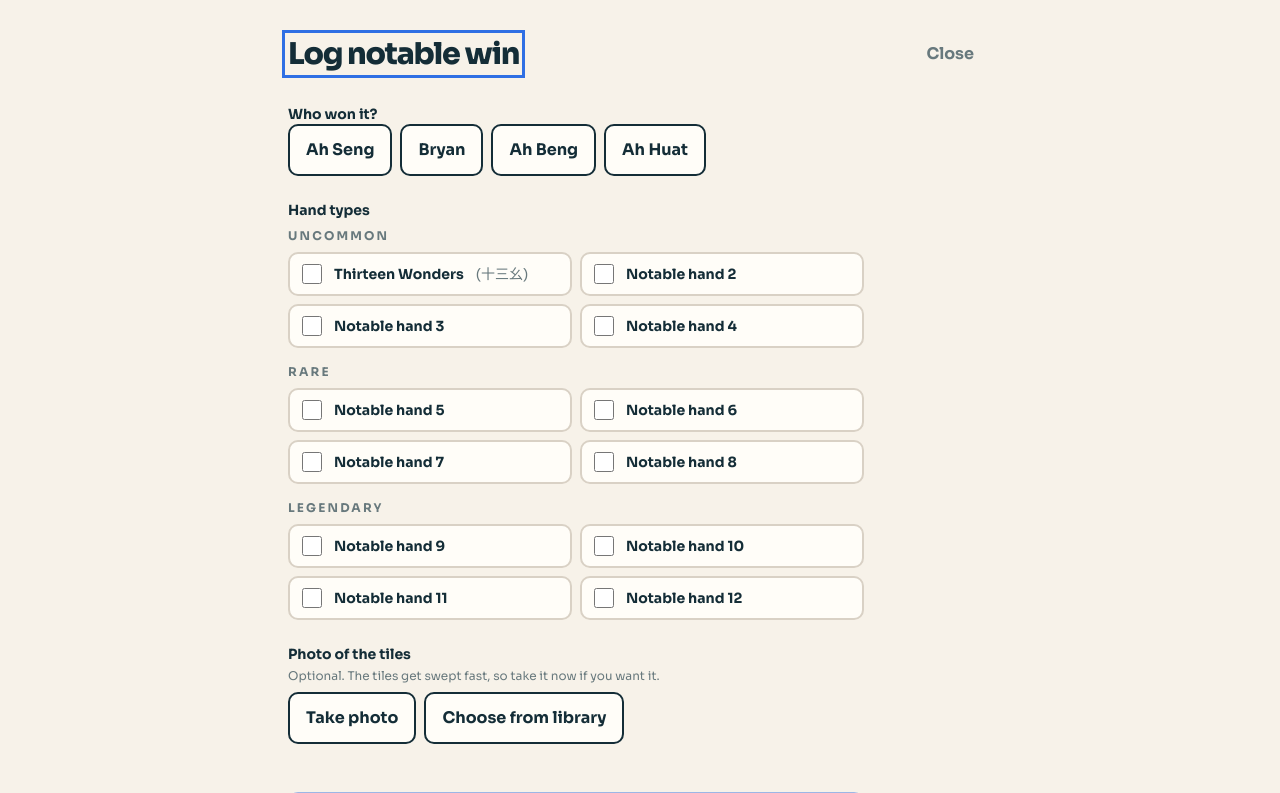
Scenario: NotableLogger › keeps the exact selected hand types and restores the action after an action failure
Click the button "Bryan": (442, 150) x1=400 y1=124 x2=483 y2=176
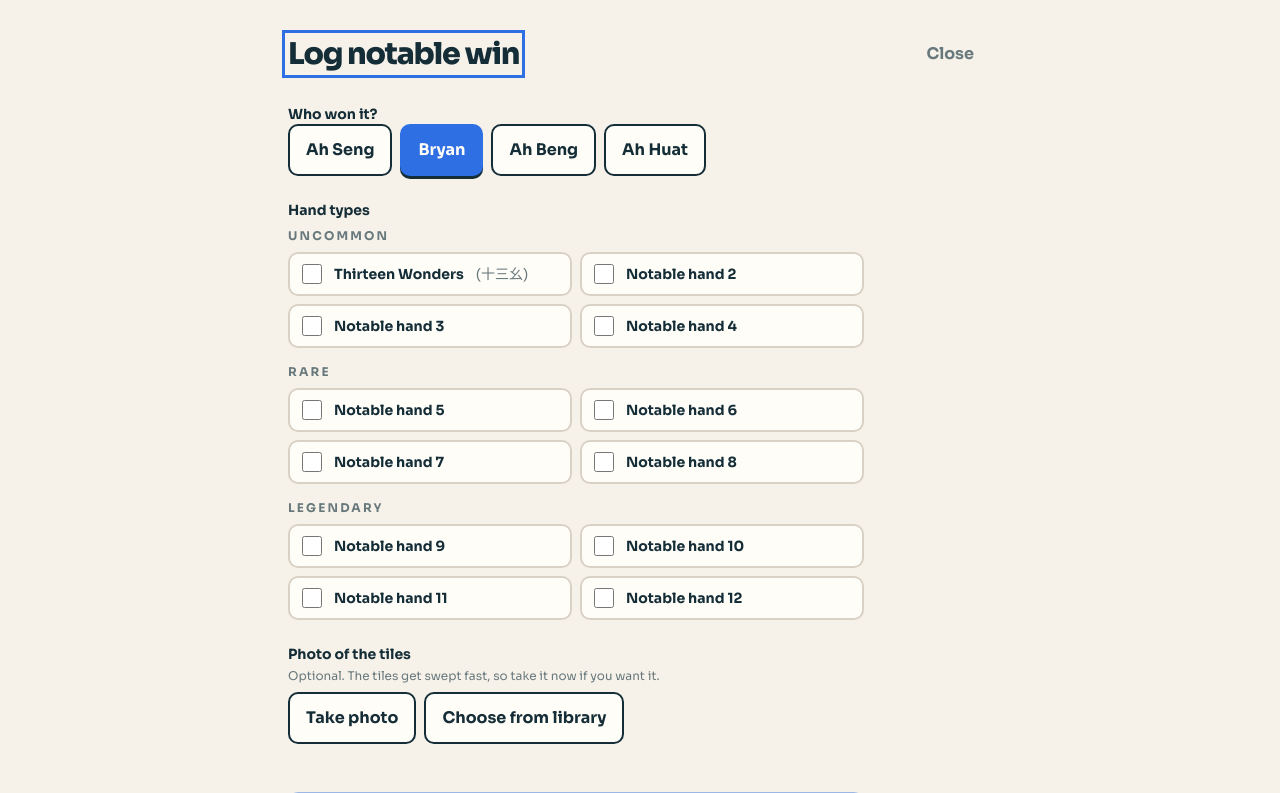
Click the checkbox labelled "Thirteen Wonders": (312, 274) x1=302 y1=264 x2=322 y2=284
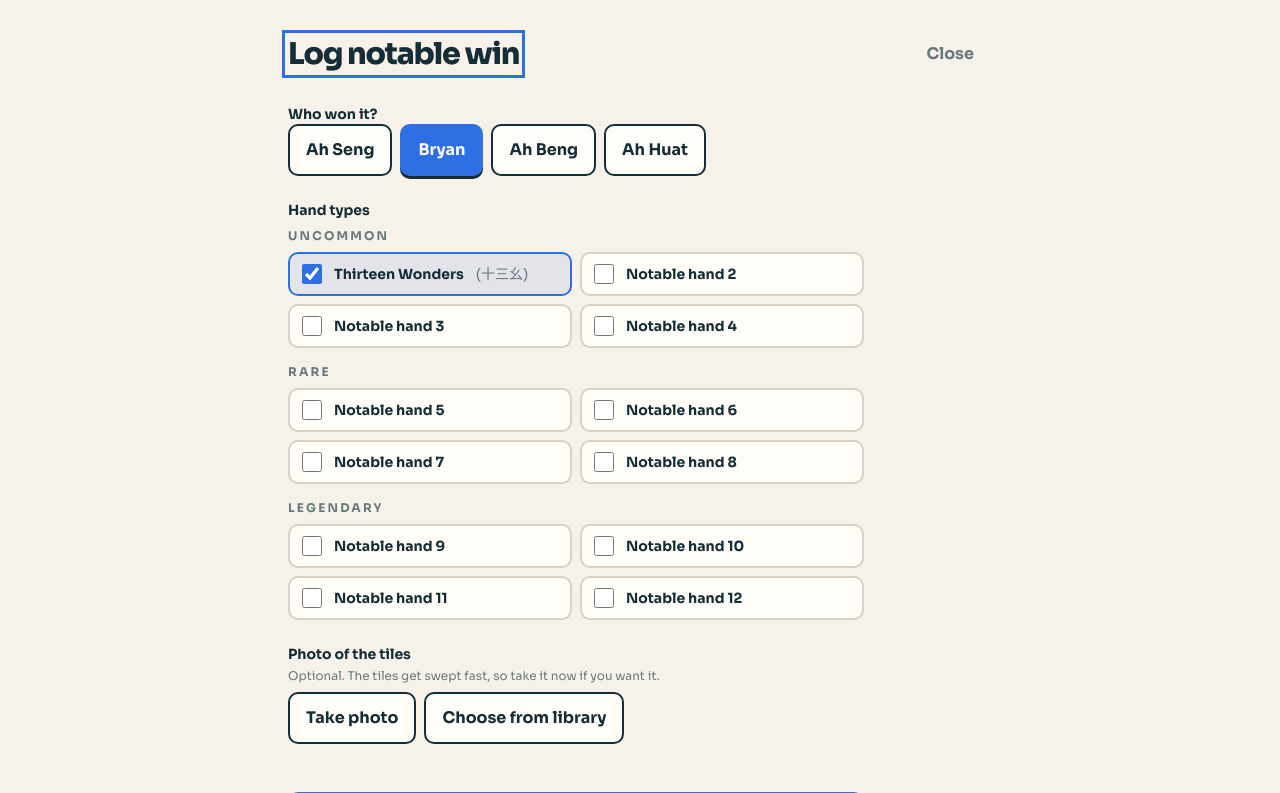
Click the checkbox labelled "Notable hand 8": (604, 462) x1=594 y1=452 x2=614 y2=472
(page scrolled)
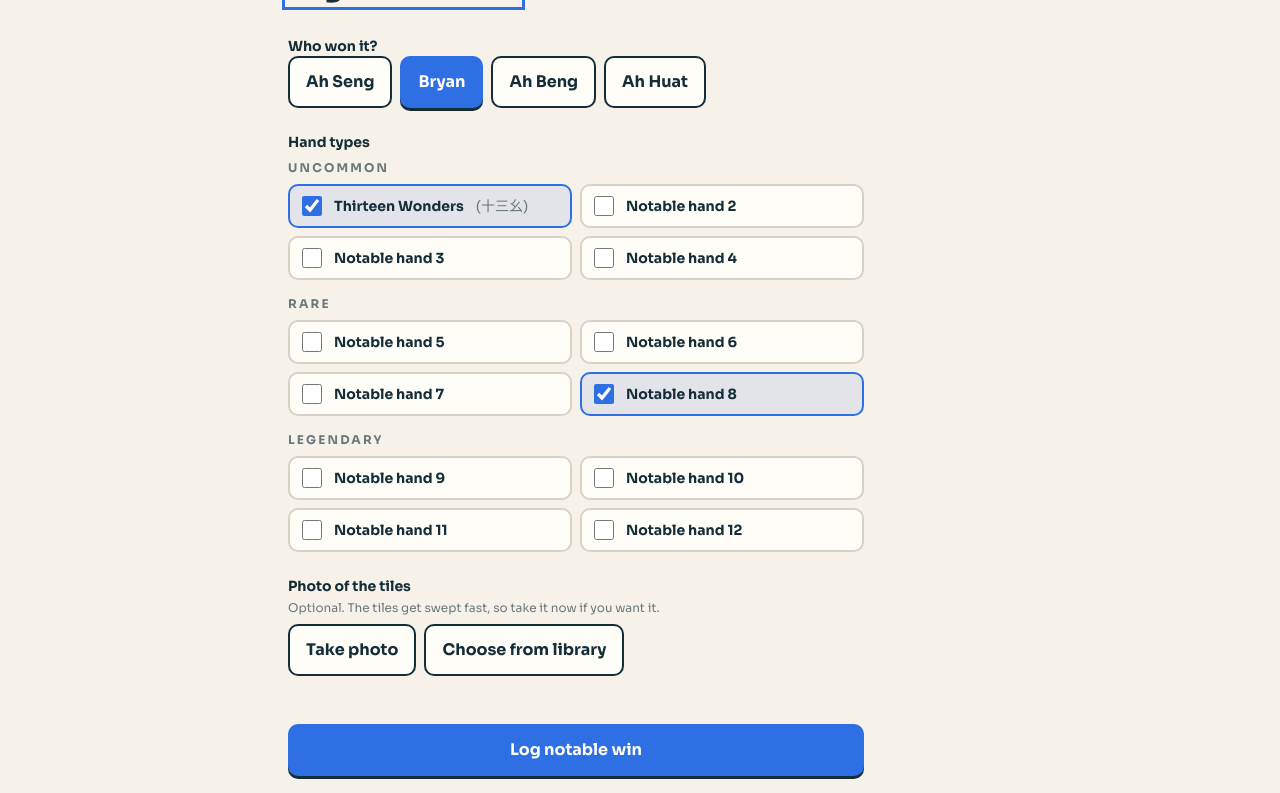
Click the button "Log notable win": (576, 750) x1=288 y1=724 x2=864 y2=776
(page scrolled)
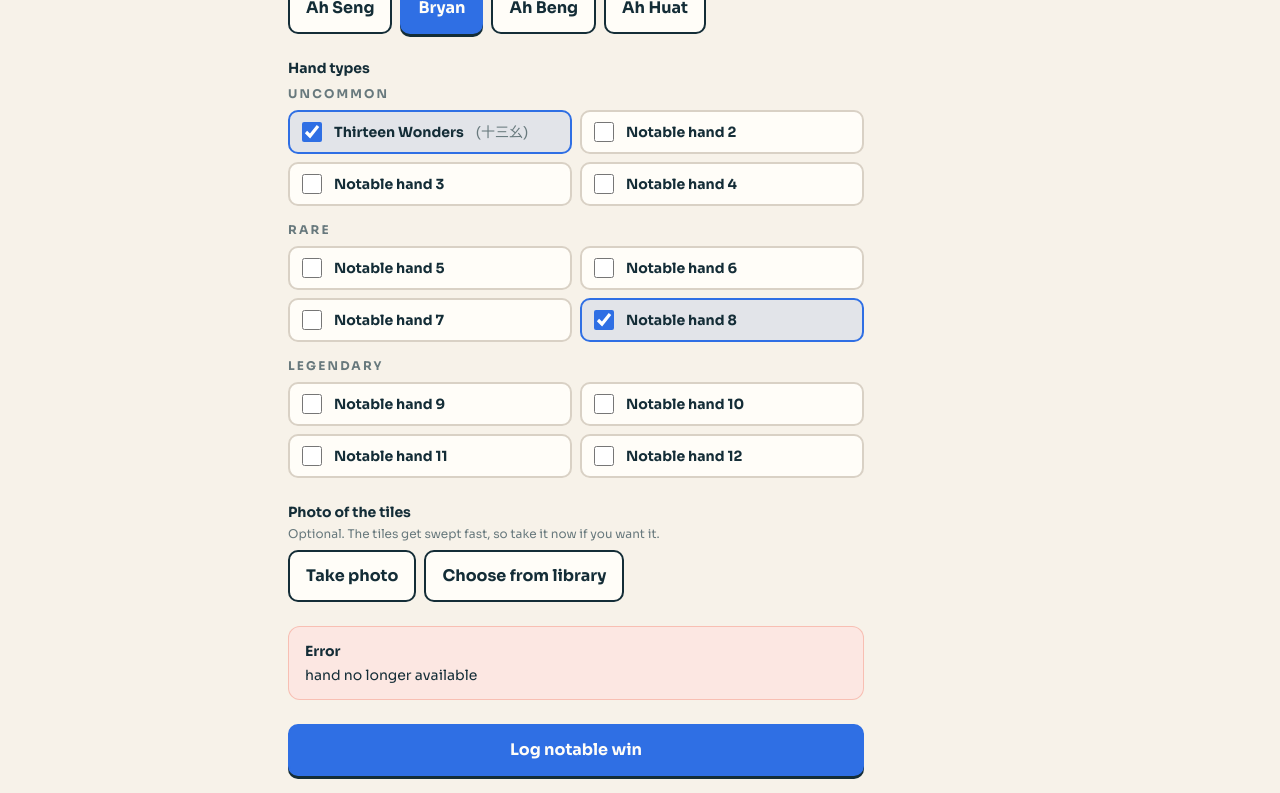
Expected: the checkbox labelled "Thirteen Wonders" is checked, x1=302 y1=122 x2=322 y2=142
Expected: the checkbox labelled "Notable hand 8" is checked, x1=594 y1=310 x2=614 y2=330
Expected: the message shows "hand no longer available", x1=305 y1=666 x2=477 y2=684
